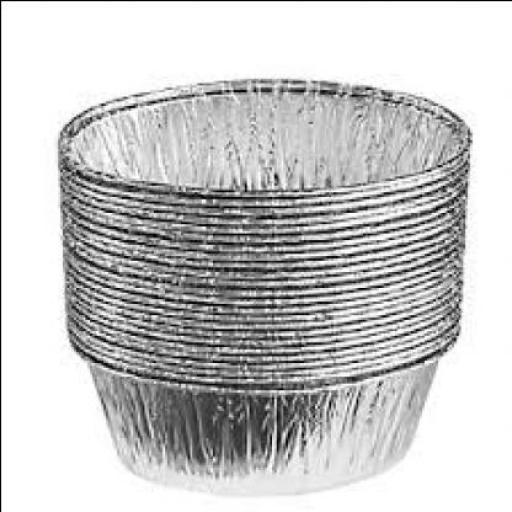metal: (59, 78, 467, 482)
